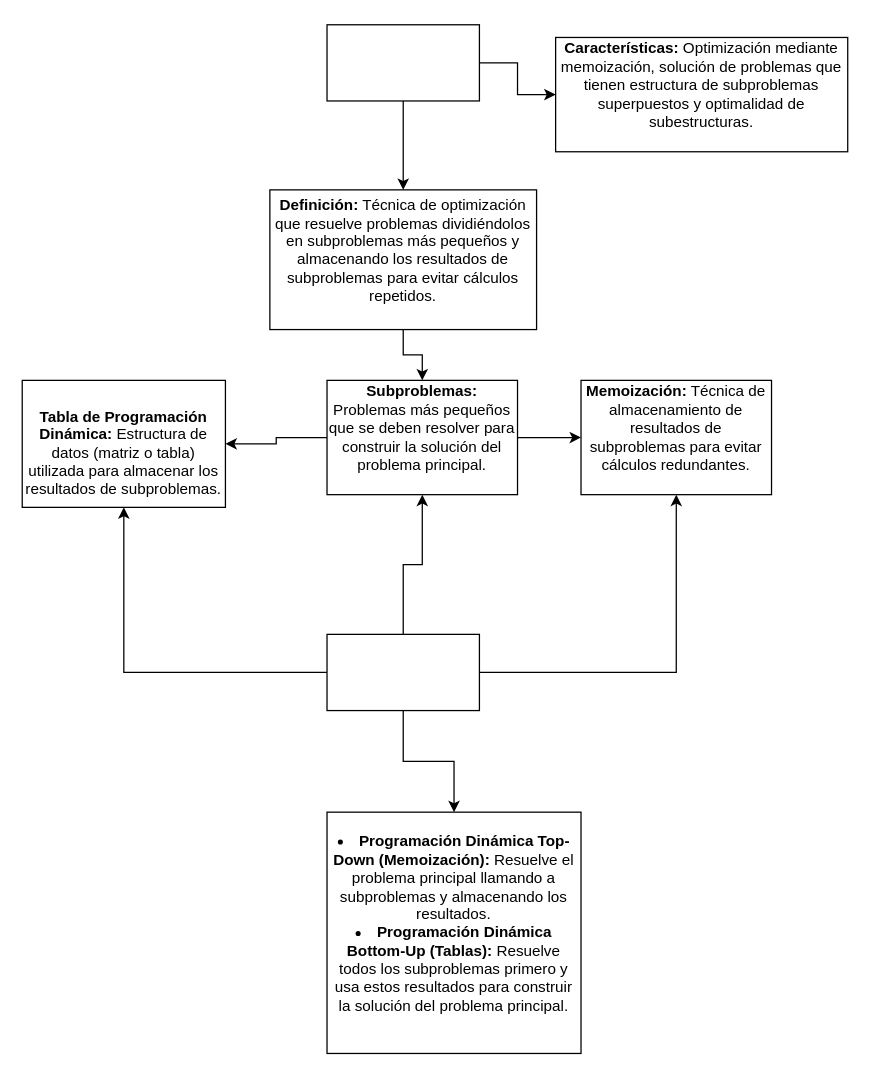
The diagram is 870 pixels wide and 1076 high, and some of its shapes have lost their labels. The shapes that lost their labels are listed below. From the top down, each one's box as (x1, y1, x2, y2) in pixels, then its label:
(326, 23, 479, 101): Programacion Dinamica
(326, 633, 479, 711): Tipos de Programacio
